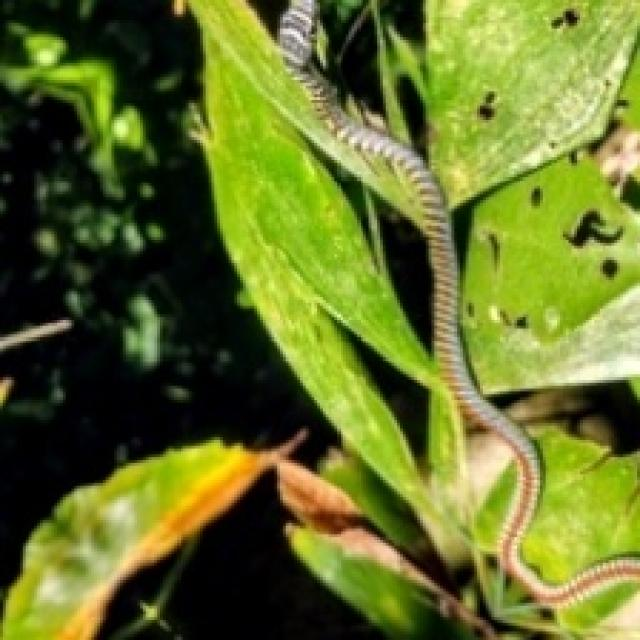paradise tree snake: (277, 0, 637, 606)
